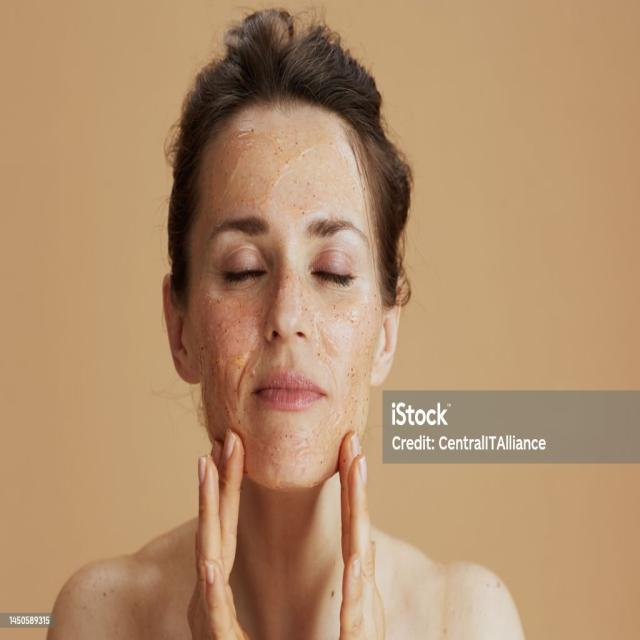Dry-Skin: (297, 294, 376, 371), (258, 425, 343, 490), (266, 161, 329, 223), (223, 349, 260, 415)
